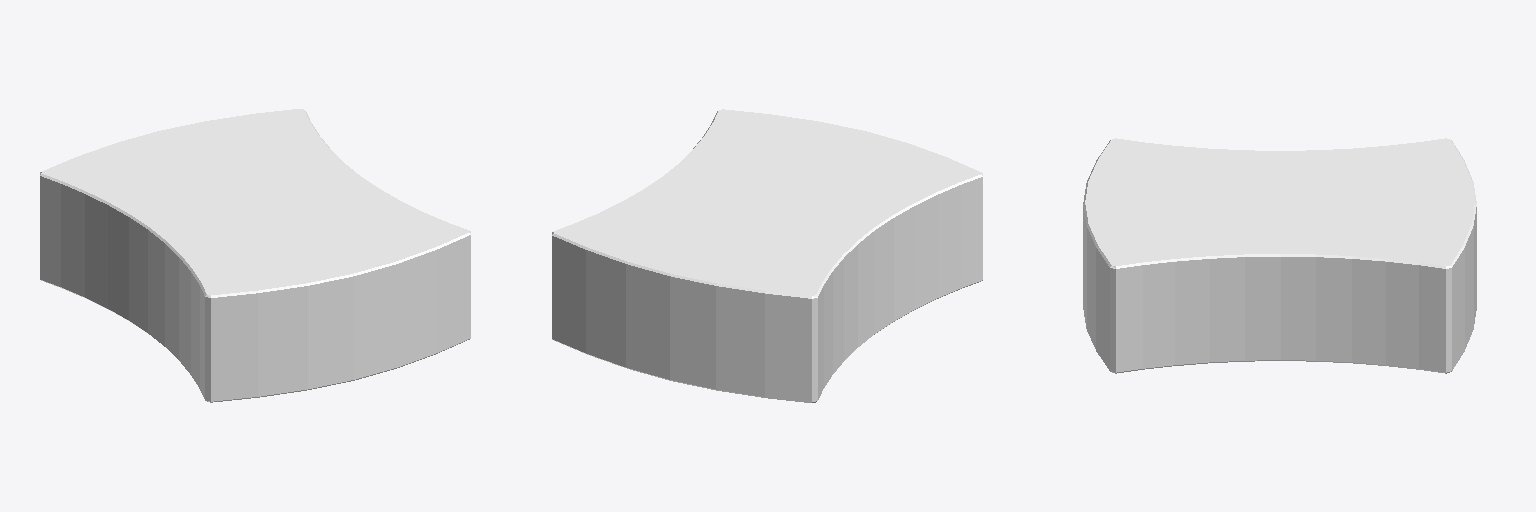
The model's file is Sponge3.obj.
The picture shows the model from 3 angles: view 1: azimuth 30°, elevation 25°; view 2: azimuth 150°, elevation 25°; view 3: azimuth 270°, elevation 25°; orthographic projection.
Visible parts, largest first — view 1: Sponge3; view 2: Sponge3; view 3: Sponge3.
Boxes of the visible parts, box(x1,y1,x2,y2) form: Sponge3: box(40, 109, 470, 402); Sponge3: box(552, 109, 982, 402); Sponge3: box(1083, 138, 1476, 373).
Bounding box in the file's own units: 3.07 × 1.18 × 3.93.